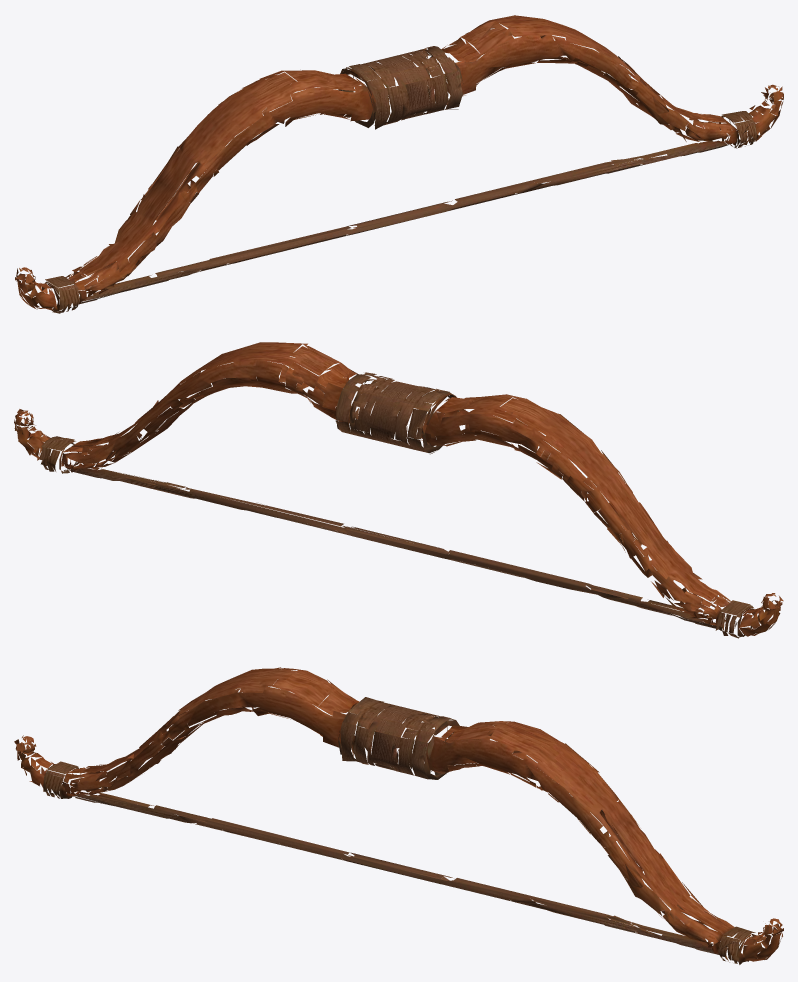
Rendered from cung.glb.
3 views of the same model, one above another, from view 1: azimuth 30°, elevation 25°; view 2: azimuth 150°, elevation 25°; view 3: azimuth 330°, elevation 25° (orthographic).
Visible parts, largest first — view 1: tripo_node_34265337-abe6-49ee-aa9a-c6df054c9c8c; view 2: tripo_node_34265337-abe6-49ee-aa9a-c6df054c9c8c; view 3: tripo_node_34265337-abe6-49ee-aa9a-c6df054c9c8c.
Boxes of the visible parts, x1,y1,x2,y2 form: tripo_node_34265337-abe6-49ee-aa9a-c6df054c9c8c: [15, 15, 783, 313]; tripo_node_34265337-abe6-49ee-aa9a-c6df054c9c8c: [14, 342, 783, 638]; tripo_node_34265337-abe6-49ee-aa9a-c6df054c9c8c: [14, 667, 783, 964].
Bounding box in the file's own units: 0.9874 × 0.2239 × 0.0903.
Materials: 1 (1 with a texture image).
